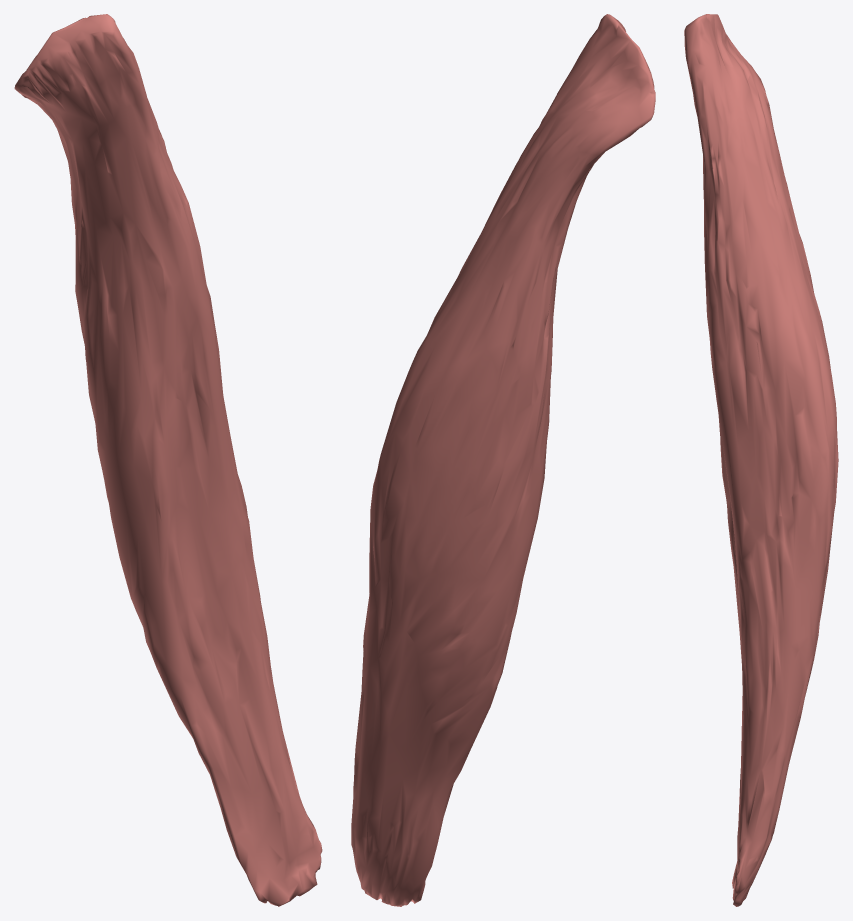
3 views of the same model, side by side, from view 1: azimuth 30°, elevation 25°; view 2: azimuth 150°, elevation 25°; view 3: azimuth 270°, elevation 25° (orthographic). The views are drawn at different scales.
Parts seen in each view (by area): view 1: ZA_13175c41cad935e0; view 2: ZA_13175c41cad935e0; view 3: ZA_13175c41cad935e0.
Part boxes in pixels (left/top/right/bottom): ZA_13175c41cad935e0: left=14, top=14, right=322, bottom=906; ZA_13175c41cad935e0: left=351, top=14, right=655, bottom=906; ZA_13175c41cad935e0: left=684, top=14, right=838, bottom=906.
Bounding box in the file's own units: 0.0917 × 0.2721 × 0.0474.
